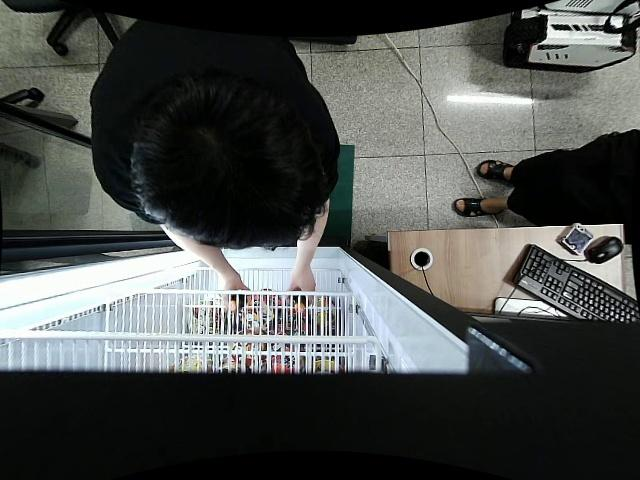00_hand: (283, 270, 318, 307)
